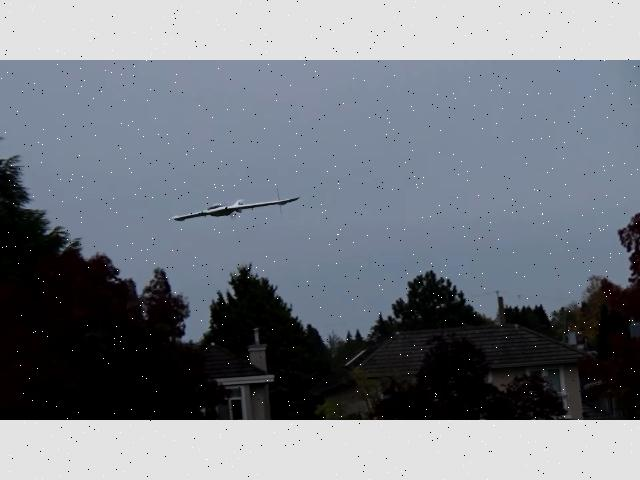Anti-Drone: (174, 195, 298, 221)
